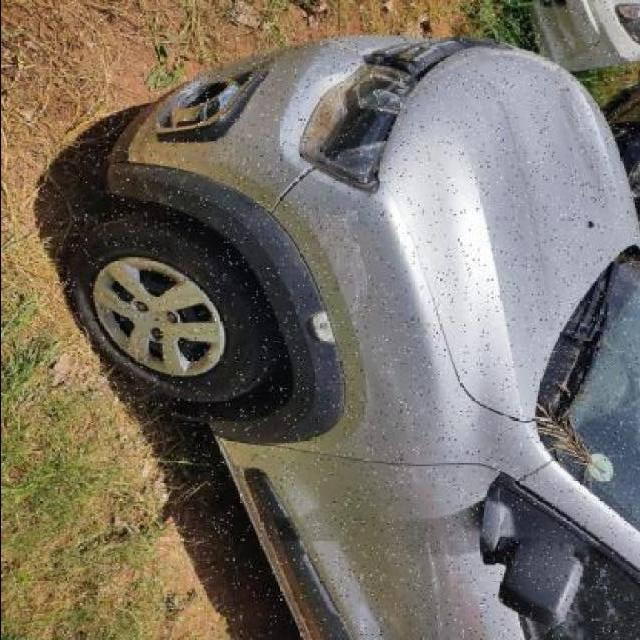fender-dent: (241, 188, 389, 451)
